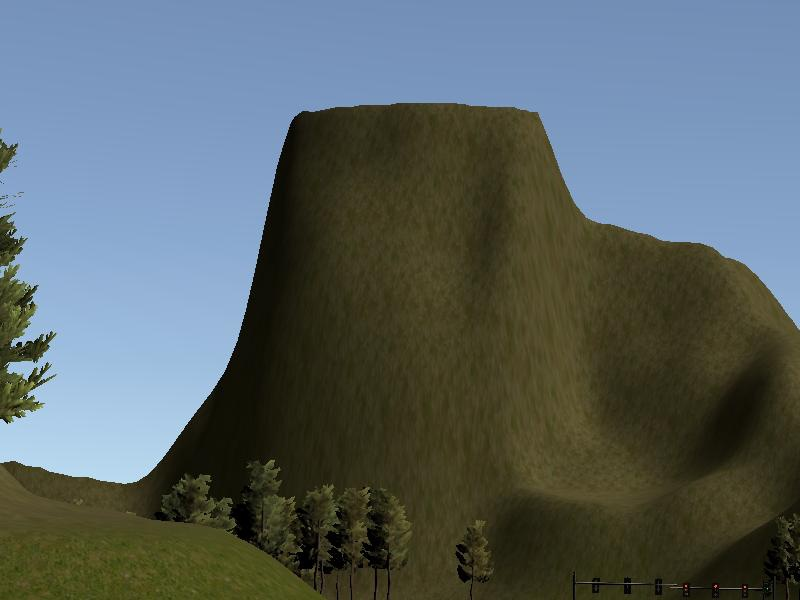Red: (741, 585, 748, 599), (712, 583, 717, 598), (683, 583, 688, 595)
